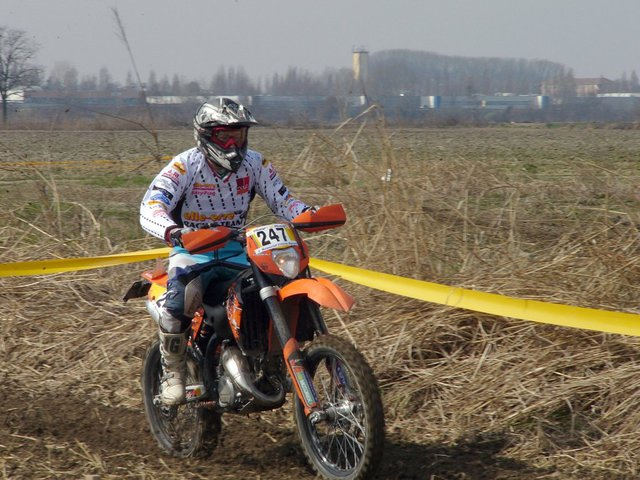helmet: (191, 99, 263, 166)
